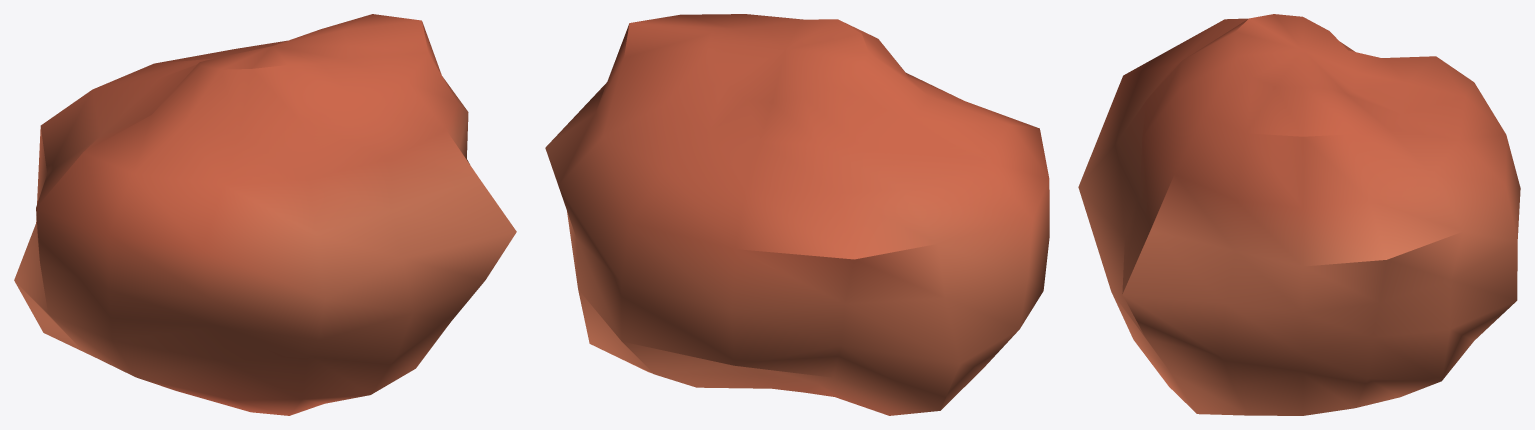
File: rock_0.glb
The picture shows the model from 3 angles, left to right: view 1: azimuth 30°, elevation 25°; view 2: azimuth 150°, elevation 25°; view 3: azimuth 270°, elevation 25°; orthographic projection. The views are drawn at different scales.
Parts seen in each view (by area): view 1: PedraMalha0; view 2: PedraMalha0; view 3: PedraMalha0.
Part boxes in pixels (x1,y1,x2,y2): PedraMalha0: (14,14,516,415); PedraMalha0: (545,14,1049,415); PedraMalha0: (1078,14,1520,415).
Size of the model in its own units: 2.54 by 1.96 by 2.18.
